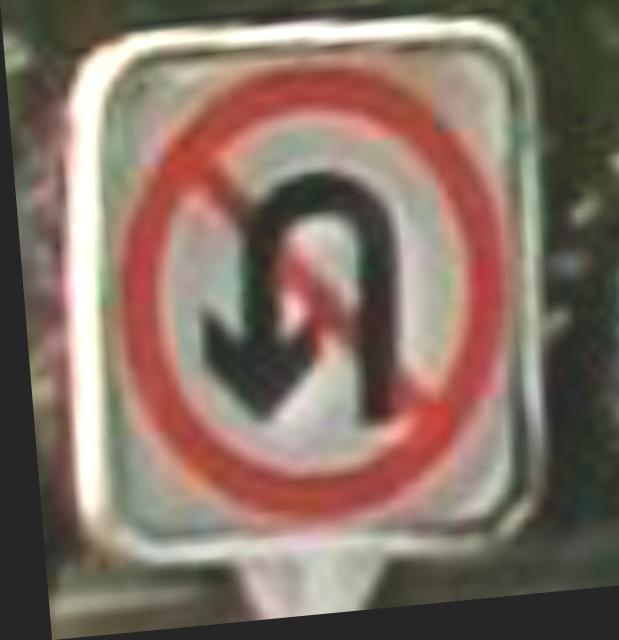not_u_turn_left: (86, 35, 505, 549)
